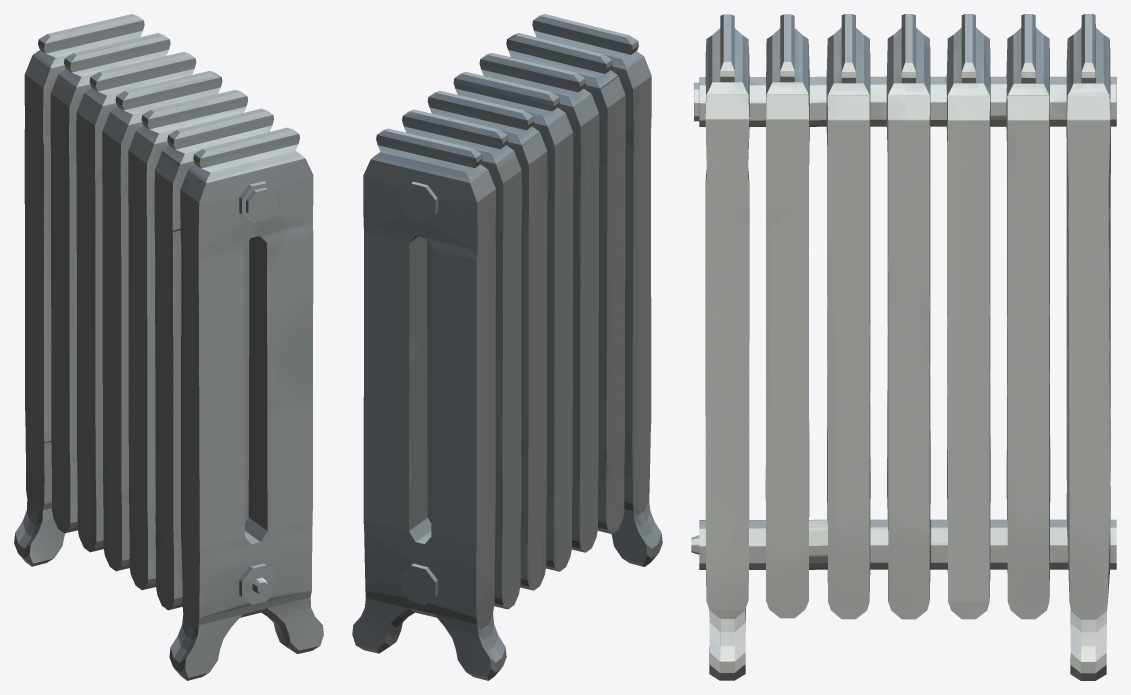
The model's file is aquecedor_1.fbx.
3 views of the same model, side by side, from view 1: azimuth 30°, elevation 25°; view 2: azimuth 150°, elevation 25°; view 3: azimuth 270°, elevation 25° (orthographic). The views are drawn at different scales.
Visible parts, largest first — view 1: Cube.001; view 2: Cube.001; view 3: Cube.001.
Boxes of the visible parts, <box> form: Cube.001: <box>14,14,323,680</box>; Cube.001: <box>352,14,662,680</box>; Cube.001: <box>691,14,1116,680</box>.
Size of the model in its own units: 156 by 557 by 354.
Materials: 1 (1 with a texture image).
